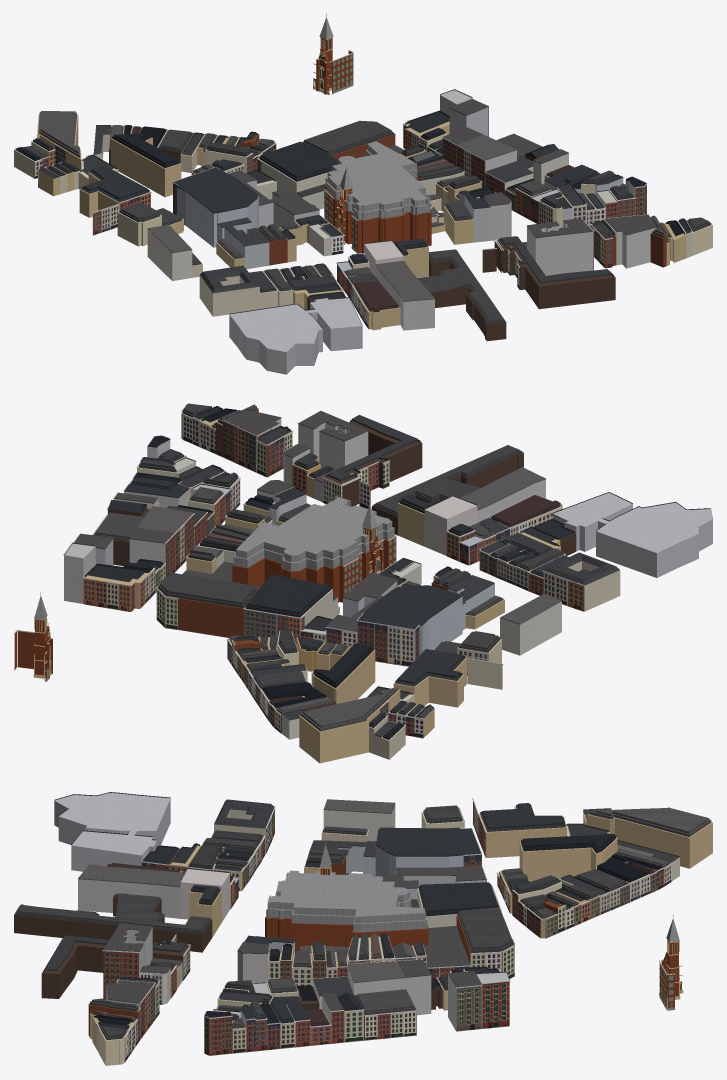
3 renders of one model, top to bottom at view 1: azimuth 30°, elevation 25°; view 2: azimuth 150°, elevation 25°; view 3: azimuth 270°, elevation 25°, orthographic. The views are drawn at different scales.
Parts seen in each view (by area): view 1: bldg_260450020, bldg_116481762_roof_b, bldg_22966057, bldg_494871180, bldg_116481762, bldg_495662691_roof, bldg_495040289, bldg_495662691, bldg_495252620_roof_b, bldg_495252620, bldg_495662695_roof_b, bldg_3127877 (+35 smaller); view 2: bldg_260450020, bldg_116481762_roof_b, bldg_495662691_roof, bldg_495040283, bldg_116481762, bldg_495689693, bldg_494871180, bldg_495252620_roof_b, bldg_495662695_roof_b, bldg_22966057, bldg_495664572, bldg_479963823 (+39 smaller); view 3: bldg_260450020, bldg_116481762_roof_b, bldg_495252620, bldg_495040283, bldg_495662691_roof, bldg_116481762, bldg_495252620_roof_b, bldg_495040289, bldg_495811204, bldg_22966057, bldg_495662695_roof_b, bldg_116481762_roof_a (+47 smaller).
Part boxes in pixels (x1,y1,x2,y2): bldg_260450020: [229, 298, 362, 374]; bldg_116481762_roof_b: [327, 141, 430, 211]; bldg_22966057: [497, 240, 615, 309]; bldg_494871180: [527, 221, 593, 275]; bldg_116481762: [324, 176, 431, 253]; bldg_495662691_roof: [173, 167, 258, 213]; bldg_495040289: [110, 137, 181, 197]; bldg_495662691: [177, 187, 258, 247]; bldg_495252620_roof_b: [417, 249, 503, 321]; bldg_495252620: [429, 251, 506, 341]; bldg_495662695_roof_b: [261, 141, 338, 178]; bldg_3127877: [199, 275, 259, 316]; bldg_260450020: [553, 492, 712, 577]; bldg_116481762_roof_b: [236, 496, 392, 562]; bldg_495662691_roof: [358, 585, 462, 629]; bldg_495040283: [299, 689, 400, 763]; bldg_116481762: [232, 535, 395, 602]; bldg_495689693: [157, 587, 257, 637]; bldg_494871180: [298, 422, 368, 469]; bldg_495252620_roof_b: [376, 445, 519, 513]; bldg_495662695_roof_b: [247, 574, 328, 613]; bldg_22966057: [324, 421, 422, 497]; bldg_495664572: [500, 601, 561, 655]; bldg_479963823: [424, 496, 477, 555]; bldg_260450020: [54, 793, 170, 871]; bldg_116481762_roof_b: [267, 870, 425, 923]; bldg_495252620: [14, 895, 212, 952]; bldg_495040283: [586, 814, 712, 868]; bldg_495662691_roof: [376, 827, 481, 856]; bldg_116481762: [265, 904, 428, 950]; bldg_495252620_roof_b: [17, 893, 208, 931]; bldg_495040289: [519, 837, 617, 881]; bldg_495811204: [78, 879, 180, 918]; bldg_22966057: [41, 942, 189, 998]; bldg_495662695_roof_b: [420, 882, 497, 913]; bldg_116481762_roof_a: [266, 879, 427, 932].
Size of the model in its own units: 268 by 41.67 by 318.
Materials: 118 (52 with a texture image).
